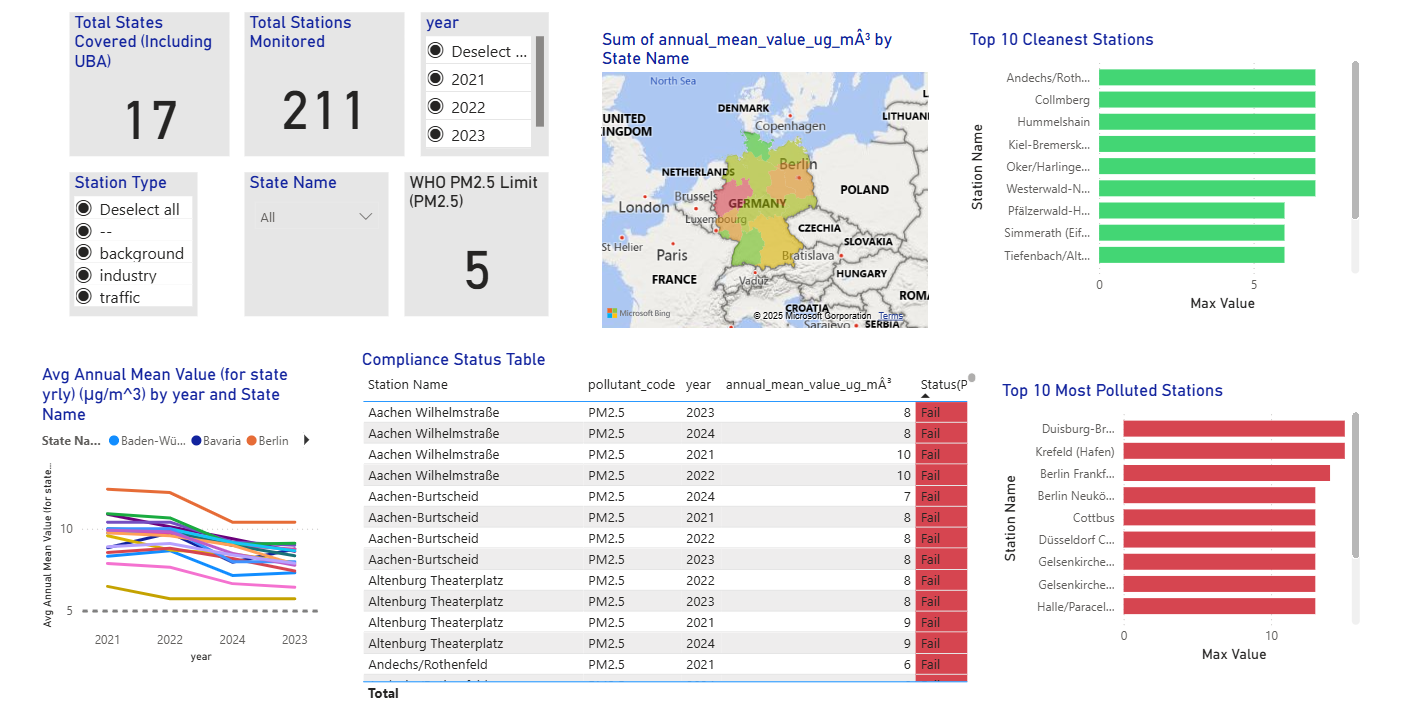

The dashboard page shown, as its layout file describes it:
{"tool":"powerbi","page":{"name":"Page 1","canvas":[2000,721],"ordinal":0},"visuals":[{"type":"card","title":"Total States Covered (Including UBA)","fields":{"Values":["States.Total States Covered"]},"box":[112,16,128,144],"z":0},{"type":"card","title":"Total Stations Monitored","fields":{"Values":["Stations.Total Stations Monitored"]},"box":[256,16,112,144],"z":1000},{"type":"filledMap","fields":{"Category":["States.State Name"]},"box":[592,32,384,304],"z":3000},{"type":"actionButton","box":[0,0,100,40],"z":4000},{"type":"tableEx","title":"Compliance Status Table","fields":{"Values":["Stations.Station Name","Air_Quality_Data.pollutant_code","Air_Quality_Data.year","Air_Quality_Data.annual_mean_value_ug_mÂ³","Air_Quality_Data.Status(Pass/Fail)"]},"box":[400,352,624,368],"z":5000},{"type":"lineChart","fields":{"Category":["Air_Quality_Data.year"],"Series":["States.State Name"],"Y":["Air_Quality_Data.Avg Annual Mean Value (for state yrly) (μg/m^3)"]},"box":[80,368,288,304],"z":6000},{"type":"clusteredBarChart","title":"Top 10 Most Polluted Stations","fields":{"Y":["Air_Quality_Data.Max Value"],"Category":["Stations.Station Name"]},"box":[1056,416,368,304],"z":7000},{"type":"clusteredBarChart","title":"Top 10 Cleanest Stations","fields":{"Y":["Air_Quality_Data.Max Value"],"Category":["Stations.Station Name"]},"box":[1008,32,400,288],"z":8000},{"type":"listSlicer","fields":{"Values":["Air_Quality_Data.year"]},"box":[384,16,128,144],"z":9000},{"type":"listSlicer","fields":{"Values":["Stations.Station Type"]},"box":[112,176,128,144],"z":10000},{"type":"slicer","title":"State Name","fields":{"Values":["States.State Name"]},"box":[256,176,144,144],"z":11000},{"type":"card","title":"WHO PM2.5 Limit (PM2.5)","fields":{"Values":["Air_Quality_Data.PM2.5_Limit_WHO_2021 for Pass"]},"box":[416,176,112,144],"z":11001},{"type":"slicer","title":"WHO Status","fields":{"Values":["Air_Quality_Data.Status(Pass/Fail)"]},"box":[1632,224,112,144],"z":11002}]}

Visuals, with their boxes on the page's 2000x721 design canvas (x1, y1, x2, y2). These are canvas units, not pixel positions in the 1401x702 screenshot, which may show the page scaled, cropped or inside an application window:
"Total States Covered (Including UBA)" card: bbox(112, 16, 240, 160)
"Total Stations Monitored" card: bbox(256, 16, 368, 160)
filledMap - States.State Name: bbox(592, 32, 976, 336)
actionButton: bbox(0, 0, 100, 40)
"Compliance Status Table" tableEx: bbox(400, 352, 1024, 720)
lineChart - Air_Quality_Data.year x States.State Name: bbox(80, 368, 368, 672)
"Top 10 Most Polluted Stations" clusteredBarChart: bbox(1056, 416, 1424, 720)
"Top 10 Cleanest Stations" clusteredBarChart: bbox(1008, 32, 1408, 320)
listSlicer - Air_Quality_Data.year: bbox(384, 16, 512, 160)
listSlicer - Stations.Station Type: bbox(112, 176, 240, 320)
"State Name" slicer: bbox(256, 176, 400, 320)
"WHO PM2.5 Limit (PM2.5)" card: bbox(416, 176, 528, 320)
"WHO Status" slicer: bbox(1632, 224, 1744, 368)
